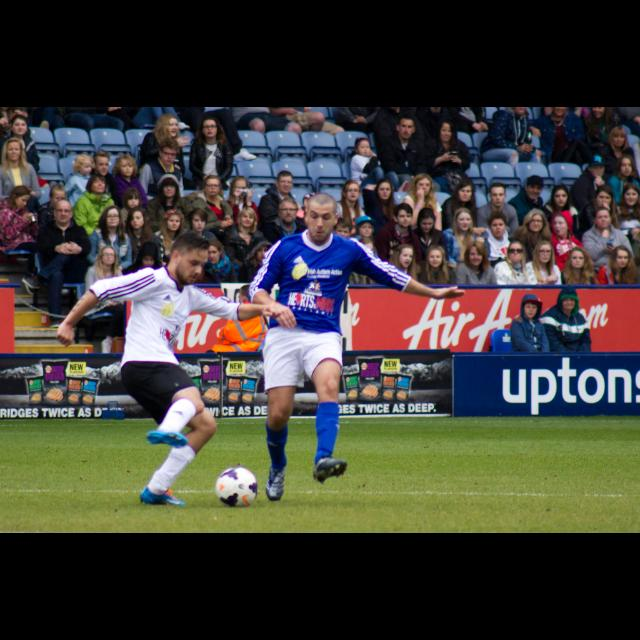Football: (216, 469, 256, 507)
